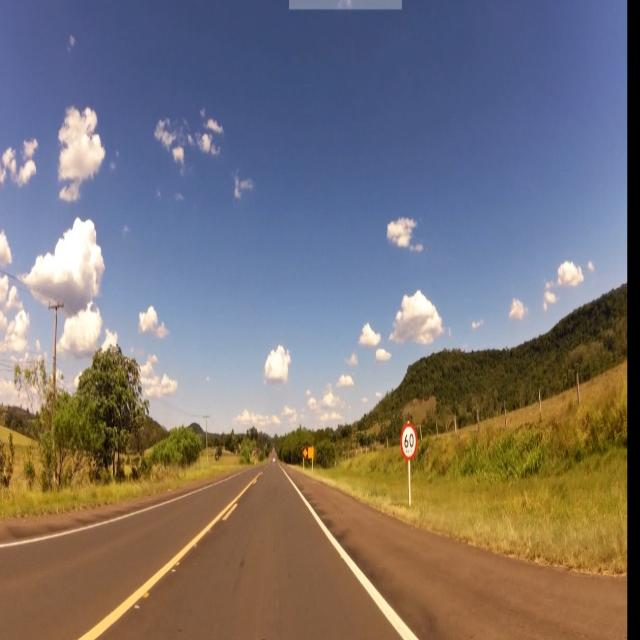R-19: (400, 419, 418, 463)
